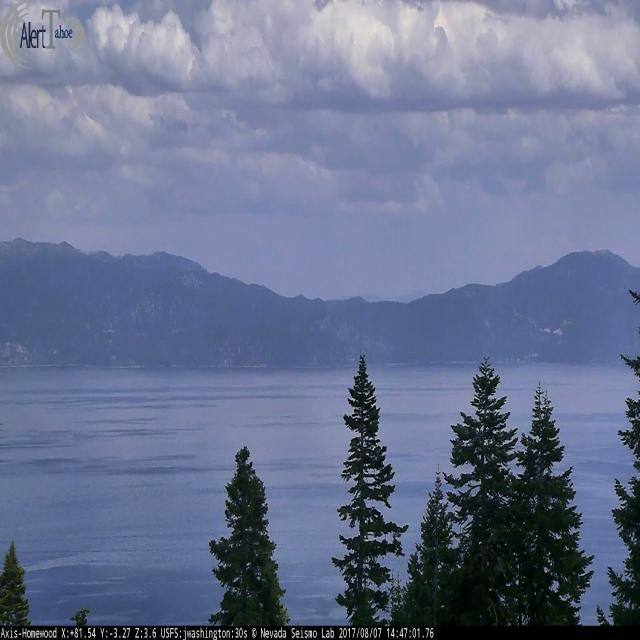smoke: (319, 316, 330, 332)
